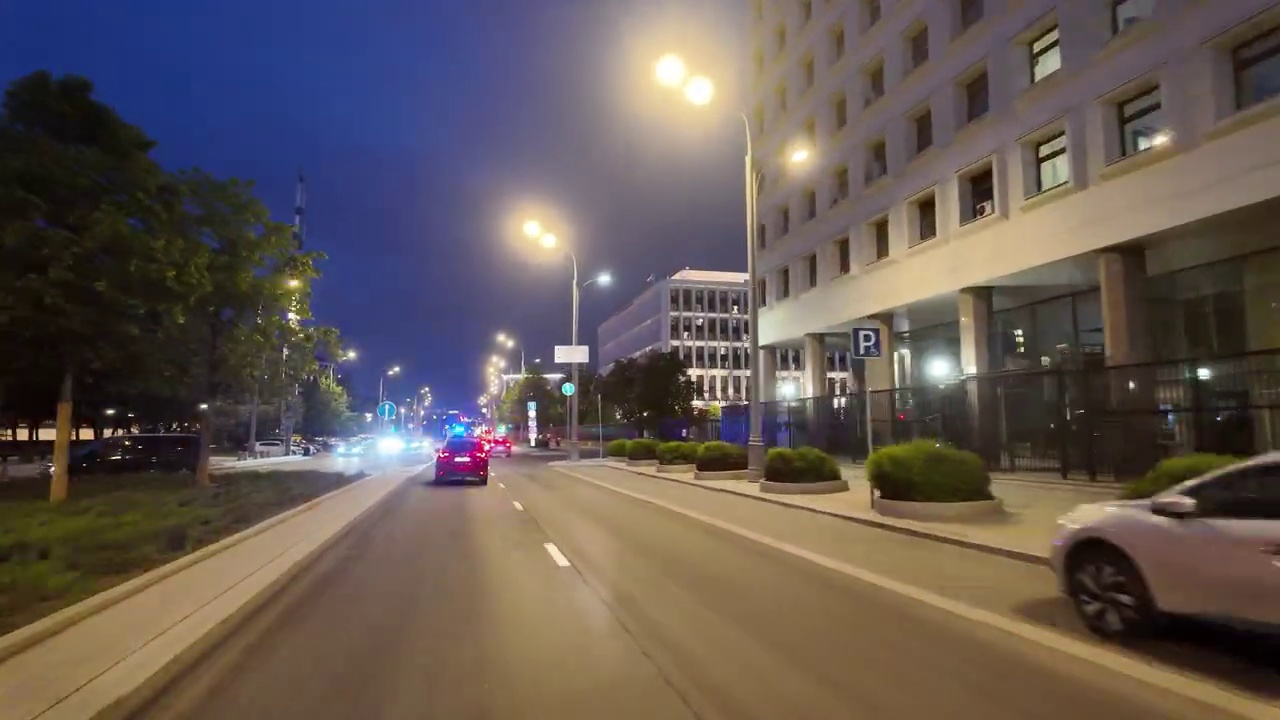acesa: (646, 48, 719, 112), (513, 210, 564, 259), (781, 140, 815, 173), (591, 267, 616, 291), (493, 330, 516, 351)
